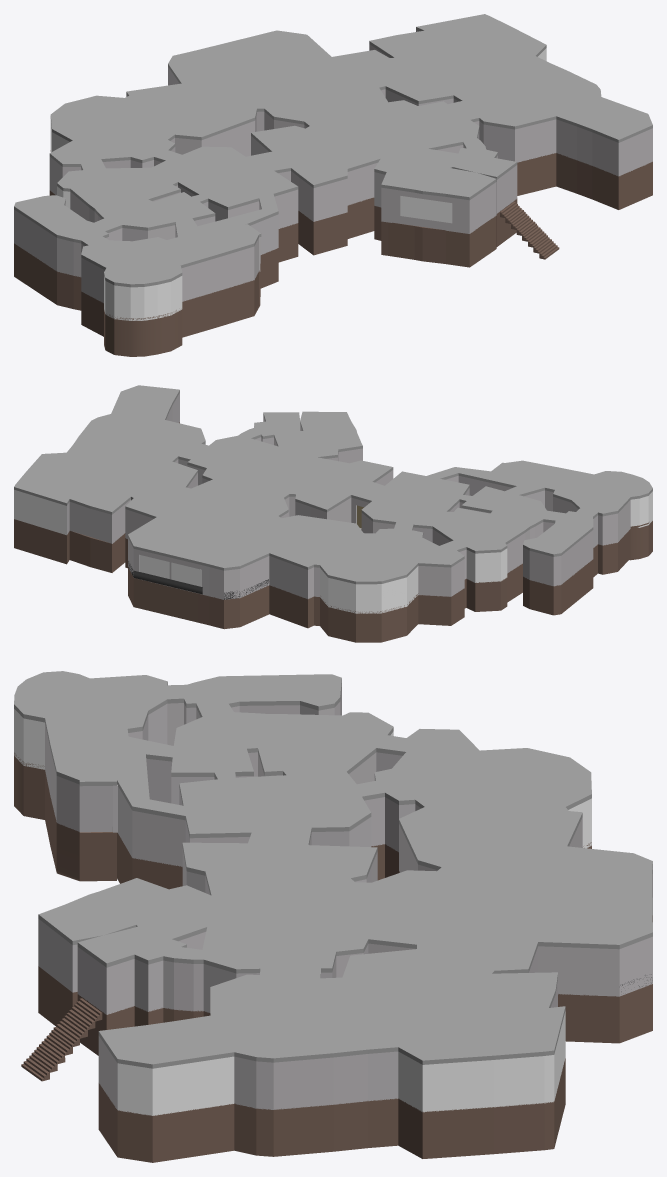
The model's file is Prototype_4GreyModel.fbx.
3 renders of one model, top to bottom at view 1: azimuth 30°, elevation 25°; view 2: azimuth 150°, elevation 25°; view 3: azimuth 270°, elevation 25°, orthographic. The views are drawn at different scales.
Parts seen in each view (by area): view 1: top1, polySurface13, wall, inside_wall, windows, stires1; view 2: top1, polySurface13, wall, windows, inside_wall, table1; view 3: top1, polySurface13, wall, windows, inside_wall, stires1.
Part boxes in pixels (x1,y1,x2,y2): top1: [14, 14, 652, 287]; polySurface13: [14, 150, 652, 356]; wall: [14, 30, 652, 303]; inside_wall: [103, 89, 464, 241]; windows: [50, 48, 546, 320]; stires1: [500, 201, 559, 259]; top1: [14, 385, 652, 584]; polySurface13: [14, 422, 652, 642]; wall: [67, 393, 630, 599]; windows: [14, 489, 652, 613]; inside_wall: [175, 424, 578, 545]; table1: [128, 561, 268, 599]; top1: [14, 671, 652, 1068]; polySurface13: [14, 752, 652, 1162]; wall: [38, 683, 652, 1109]; windows: [14, 709, 591, 1115]; inside_wall: [112, 703, 437, 978]; stires1: [21, 998, 102, 1081].
Bounding box in the file's own units: 56.53 × 7.03 × 38.81.
